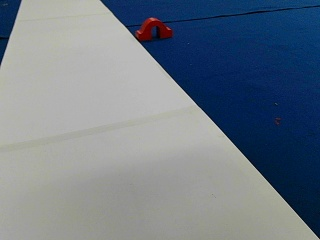bridge: (136, 17, 172, 38)
